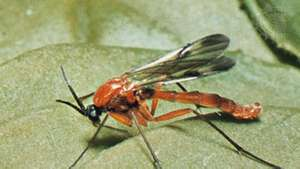Fruit fly: (65, 45, 262, 169)
